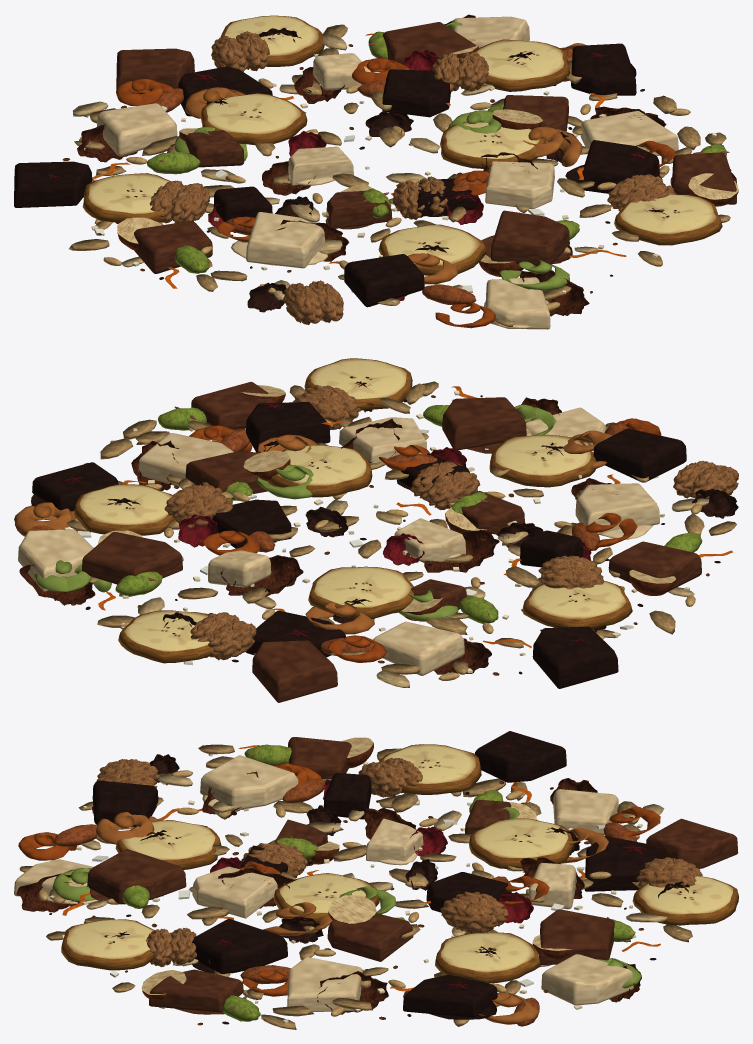
The model's file is smule-cookie-builder-natural-ingredients.glb.
The picture shows the model from 3 angles, top to bottom: view 1: azimuth 30°, elevation 25°; view 2: azimuth 150°, elevation 25°; view 3: azimuth 270°, elevation 25°; orthographic projection. The views are drawn at different scales.
Parts seen in each view (by area): view 1: Baked topping banana, Baked topping white-chocolate, Baked topping dark-chocolate, Baked topping milk-chocolate, Baked topping walnut, Oat dough surface - toasted rolled flakes, Baked topping date, Baked topping oat-flakes, Baked topping caramel, Baked topping hazelnut, Baked topping pistachio, Baked topping peanut-butter (+7 smaller); view 2: Baked topping banana, Baked topping milk-chocolate, Baked topping white-chocolate, Baked topping dark-chocolate, Baked topping walnut, Oat dough surface - toasted rolled flakes, Baked topping date, Baked topping oat-flakes, Baked topping caramel, Baked topping pistachio, Baked topping peanut-butter, Baked topping pistachio-cream (+7 smaller); view 3: Baked topping banana, Baked topping white-chocolate, Baked topping dark-chocolate, Baked topping milk-chocolate, Baked topping walnut, Oat dough surface - toasted rolled flakes, Baked topping date, Baked topping oat-flakes, Baked topping peanut-butter, Baked topping caramel, Baked topping hazelnut, Baked topping pistachio (+8 smaller).
Part boxes in pixels (x1,y1,x2,y2): Baked topping banana: (82,15,722,275); Baked topping white-chocolate: (97,16,678,329); Baked topping dark-chocolate: (14,43,661,307); Baked topping milk-chocolate: (116,22,736,273); Baked topping walnut: (149,31,676,324); Oat dough surface - toasted rolled flakes: (73,24,726,326); Baked topping date: (77,14,666,316); Baked topping oat-flakes: (69,33,730,320); Baked topping caramel: (116,57,674,328); Baked topping hazelnut: (117,36,738,276); Baked topping pistachio: (146,31,729,273); Baked topping peanut-butter: (185,43,586,284); Baked topping banana: (74,358,632,663); Baked topping milk-chocolate: (81,382,701,702); Baked topping white-chocolate: (18,407,659,675); Baked topping dark-chocolate: (31,402,686,688); Baked topping walnut: (164,385,738,660); Oat dough surface - toasted rolled flakes: (67,381,736,687); Baked topping date: (19,397,617,674); Baked topping oat-flakes: (115,383,704,674); Baked topping caramel: (189,418,661,662); Baked topping pistachio: (115,405,702,623); Baked topping peanut-butter: (14,430,612,634); Baked topping pistachio-cream: (34,404,556,621); Baked topping banana: (61,744,738,983); Baked topping white-chocolate: (14,755,633,1011); Baked topping dark-chocolate: (92,731,659,1019); Baked topping milk-chocolate: (87,737,738,1014); Baked topping walnut: (96,757,702,967); Oat dough surface - toasted rolled flakes: (19,744,692,1029); Baked topping date: (16,771,641,1014); Baked topping oat-flakes: (84,748,667,1016); Baked topping peanut-butter: (96,812,608,1024); Baked topping caramel: (18,763,660,996); Baked topping hazelnut: (141,737,572,999); Baked topping pistachio: (122,744,635,1021).
Size of the model in its own units: 3.77 by 0.4321 by 4.01.
27 materials, 27 textured.
